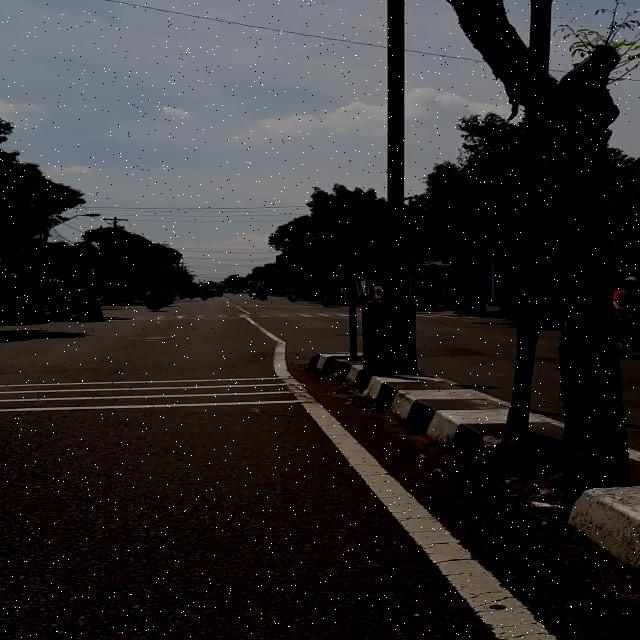Dilarang Putar Balik: (316, 196, 386, 236)
